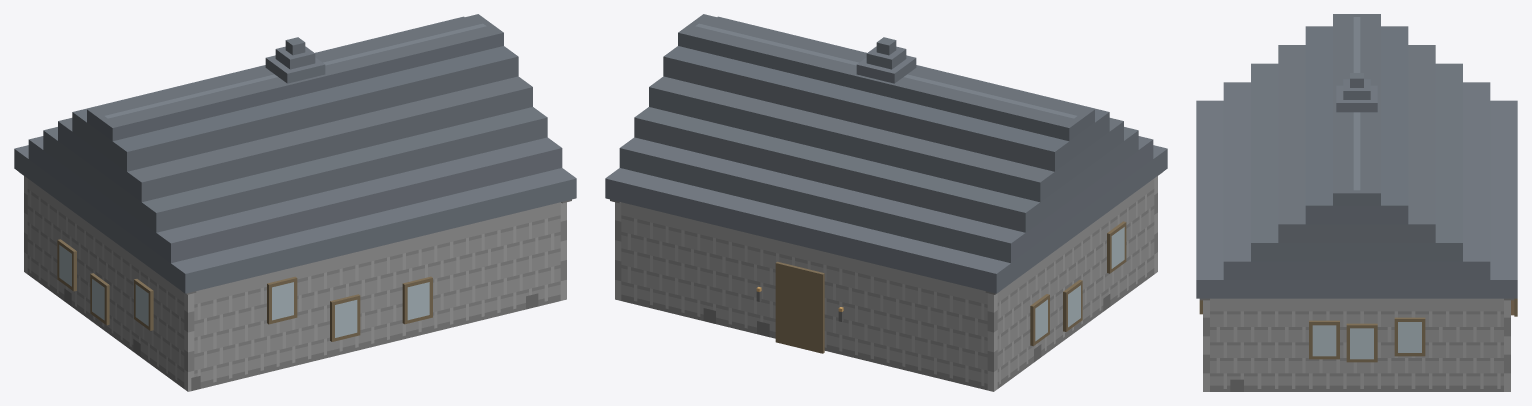
The model's file is mausoleo_02.glb.
3 renders of one model, left to right at view 1: azimuth 30°, elevation 25°; view 2: azimuth 150°, elevation 25°; view 3: azimuth 270°, elevation 25°, orthographic. The views are drawn at different scales.
Visible parts, largest first — view 1: mausoleo_02; view 2: mausoleo_02; view 3: mausoleo_02.
Boxes of the visible parts, x1,y1,x2,y2 form: mausoleo_02: [14, 14, 576, 391]; mausoleo_02: [605, 14, 1167, 391]; mausoleo_02: [1196, 14, 1517, 391].
Size of the model in its own units: 12.4 by 7.4 by 9.4.
